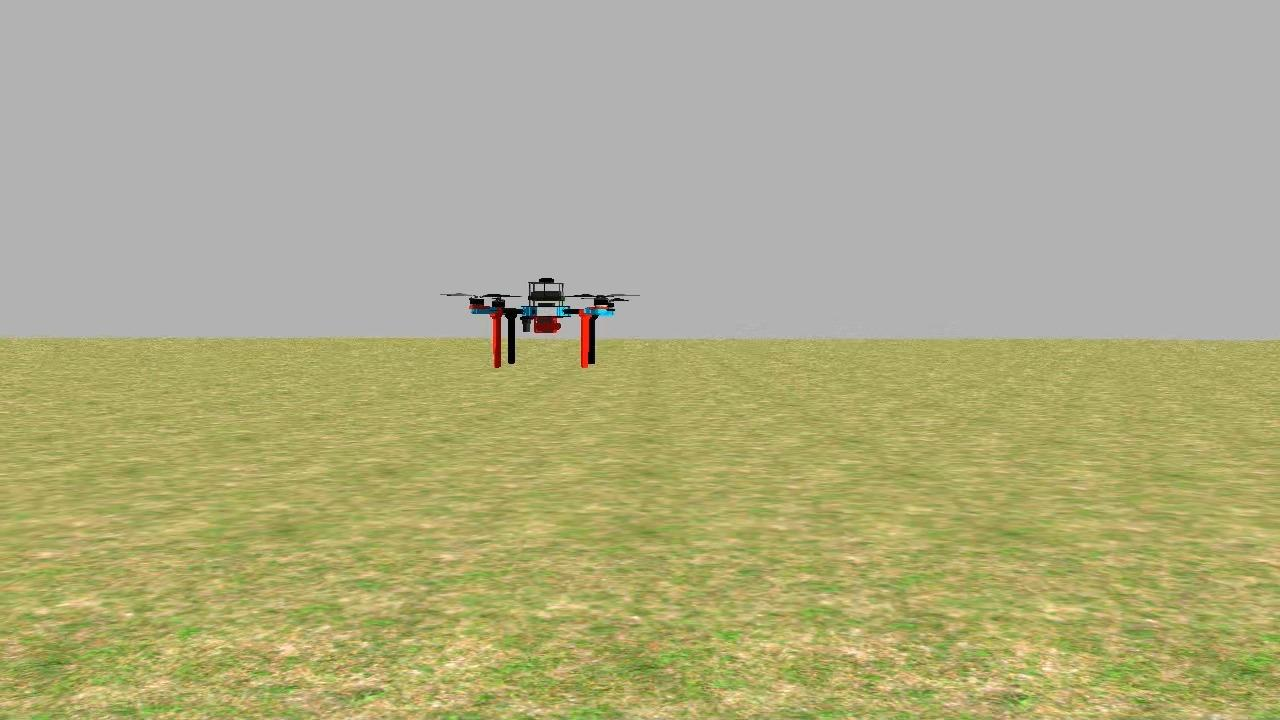UAV: (464, 272, 630, 370)
